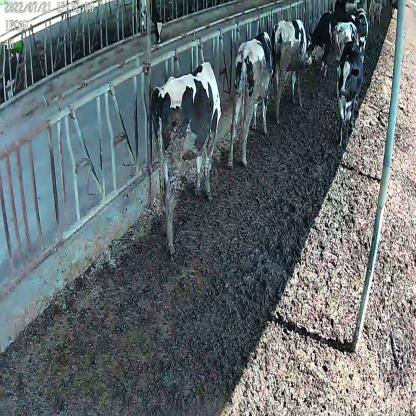cow: (153, 58, 222, 256), (226, 28, 274, 167), (271, 18, 314, 125), (334, 37, 365, 148)
